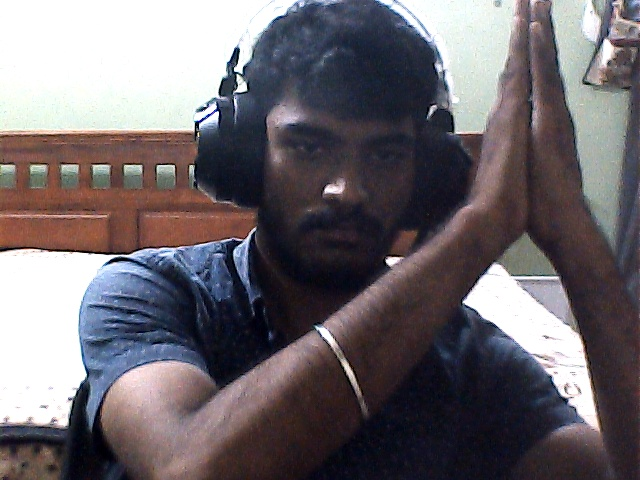Sign: (472, 0, 585, 245)
